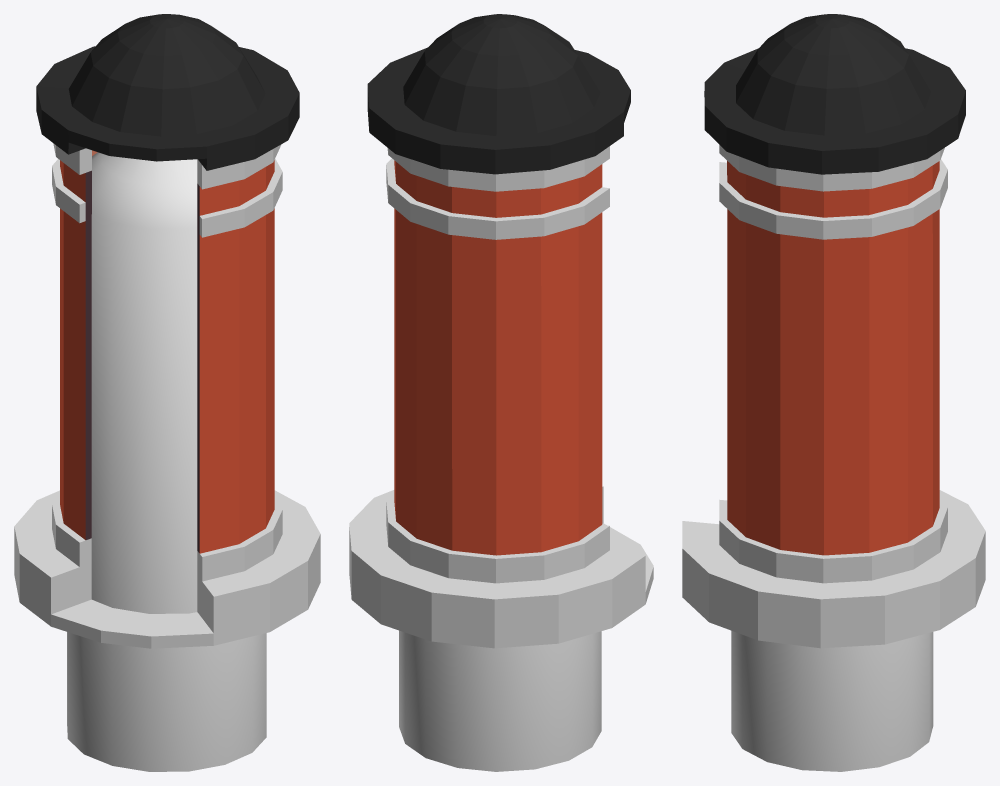
Rendered from tower.fbx.
3 views of the same model, side by side, from view 1: azimuth 30°, elevation 25°; view 2: azimuth 150°, elevation 25°; view 3: azimuth 270°, elevation 25° (orthographic).
Parts seen in each view (by area): view 1: Tower, GrassInTower, GrassMaxIndicator; view 2: Tower, GrassInTower, GrassMaxIndicator; view 3: Tower, GrassInTower, GrassMaxIndicator.
Boxes of the visible parts, <box> form: Tower: <box>14,14,320,648</box>; GrassInTower: <box>67,152,266,771</box>; GrassMaxIndicator: <box>52,158,282,237</box>; Tower: <box>349,14,653,648</box>; GrassInTower: <box>399,630,601,771</box>; GrassMaxIndicator: <box>386,158,609,239</box>; Tower: <box>682,14,985,648</box>; GrassInTower: <box>731,630,933,771</box>; GrassMaxIndicator: <box>719,159,947,239</box>.
Size of the model in its own units: 1124 by 2900 by 1122.
